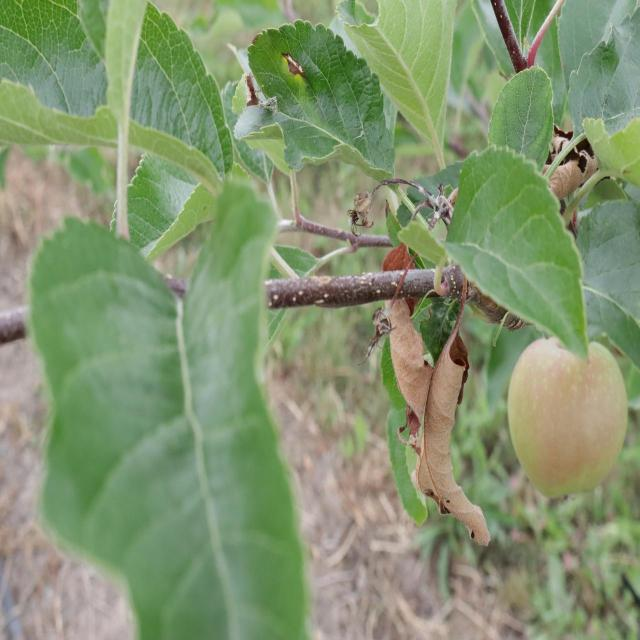-FireBlight-: (353, 226, 502, 560)
